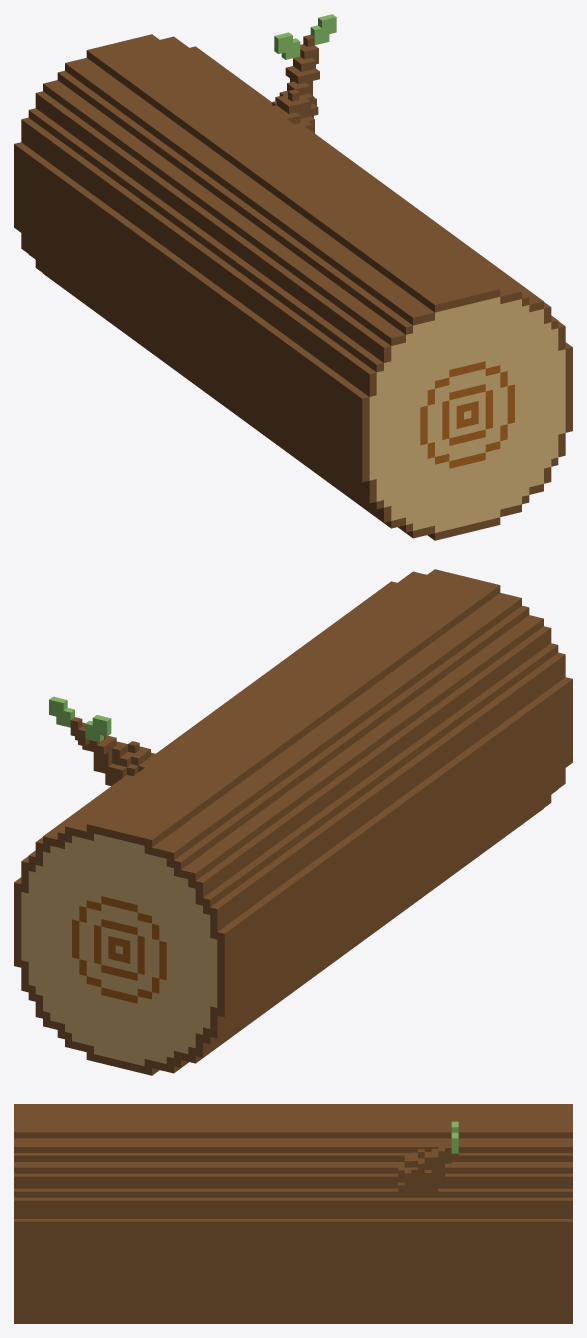
Rendered from Wood Log.obj.
The picture shows the model from 3 angles, top to bottom: view 1: azimuth 30°, elevation 25°; view 2: azimuth 150°, elevation 25°; view 3: azimuth 270°, elevation 25°; orthographic projection. The views are drawn at different scales.
Bounding box in the file's own units: 34 × 37 × 83.
1 material, 1 textured.
